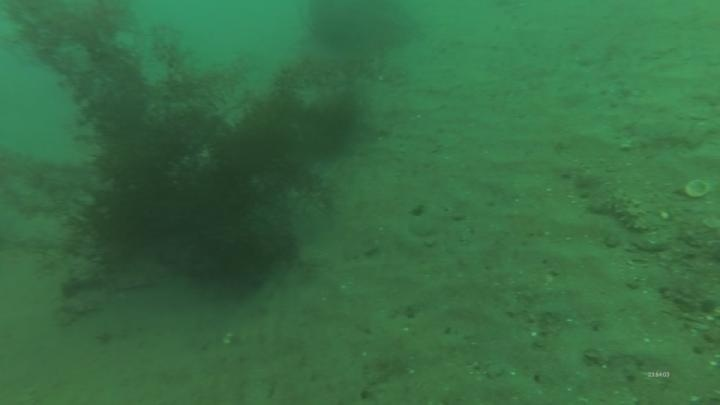holothurian: (607, 187, 651, 235)
